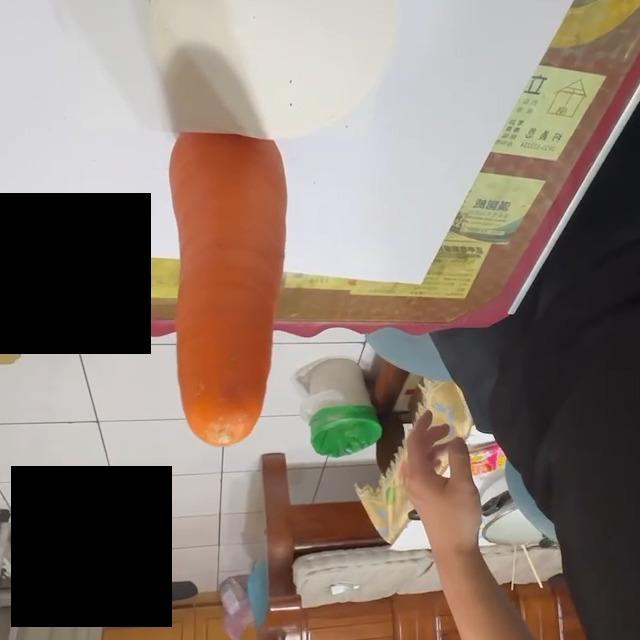carrot: (165, 126, 291, 449)
